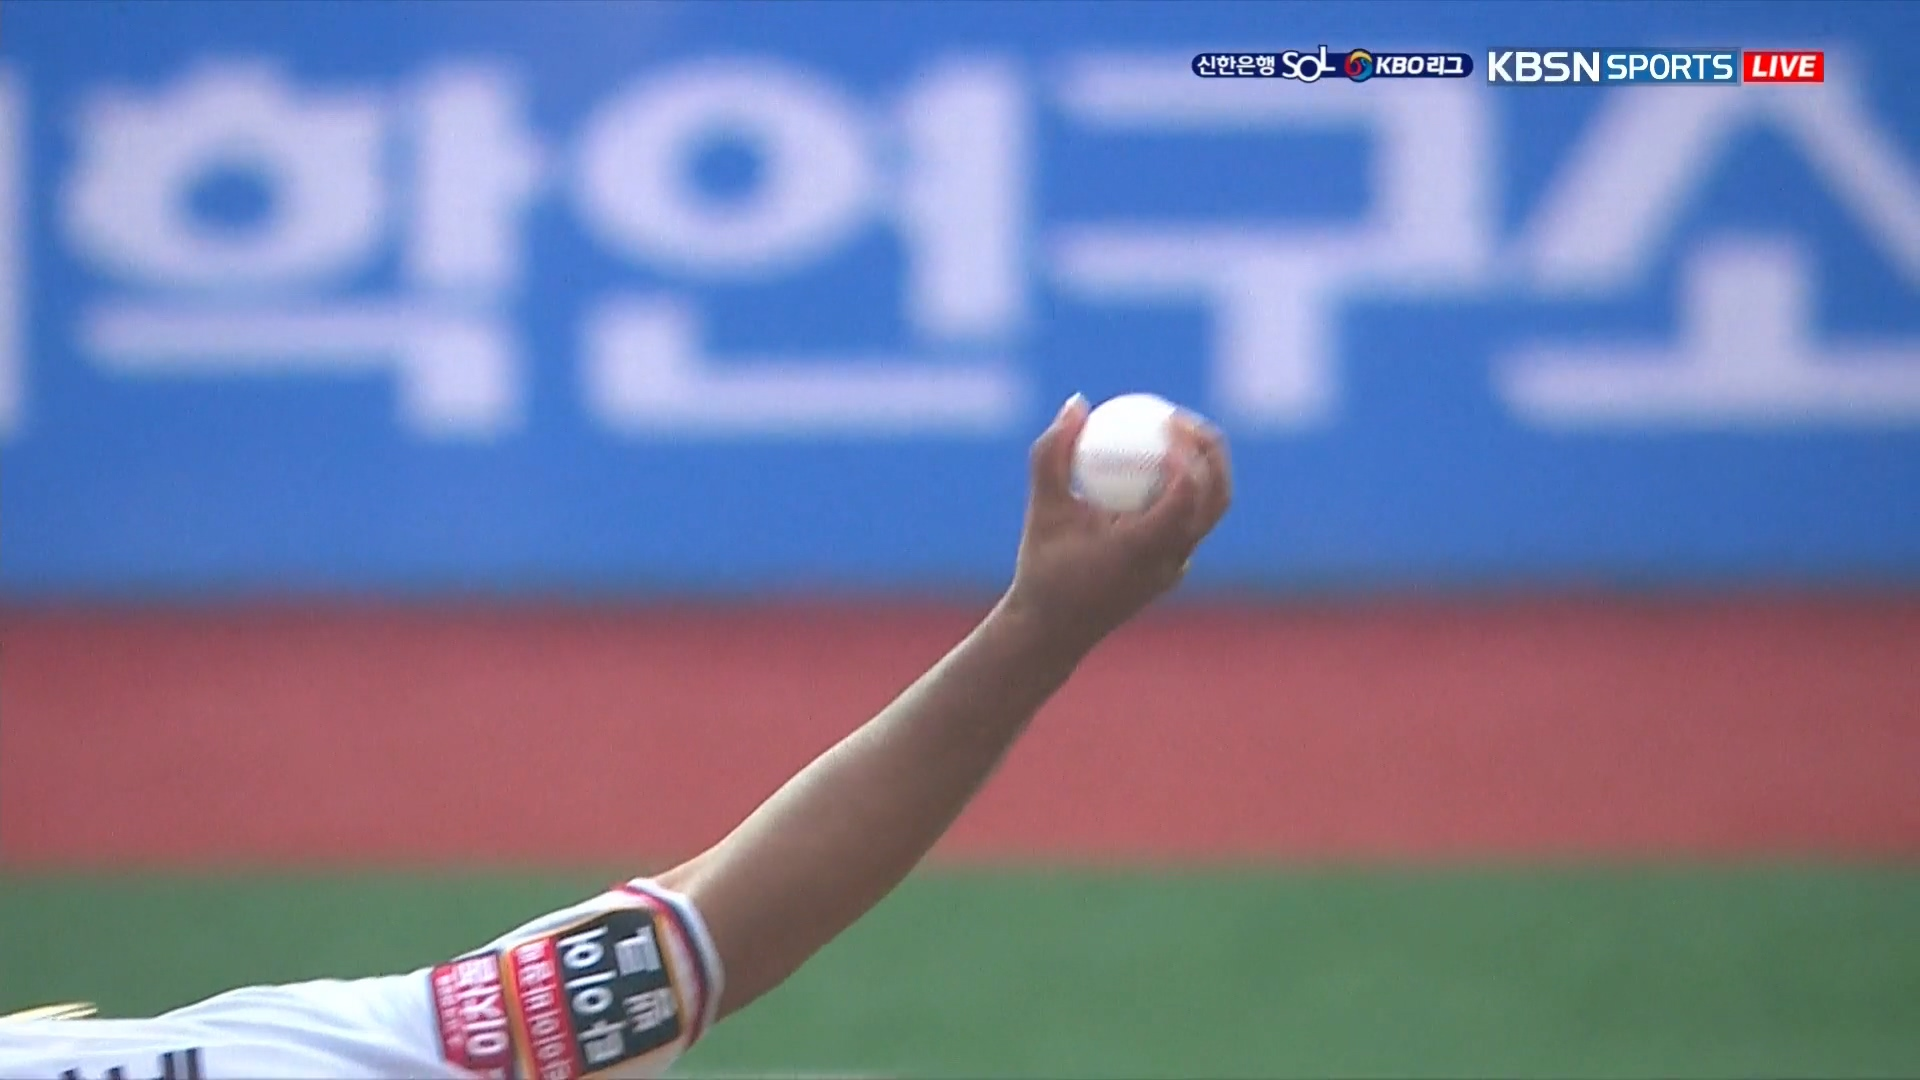zoomin_hand: (690, 386, 1236, 1040)
